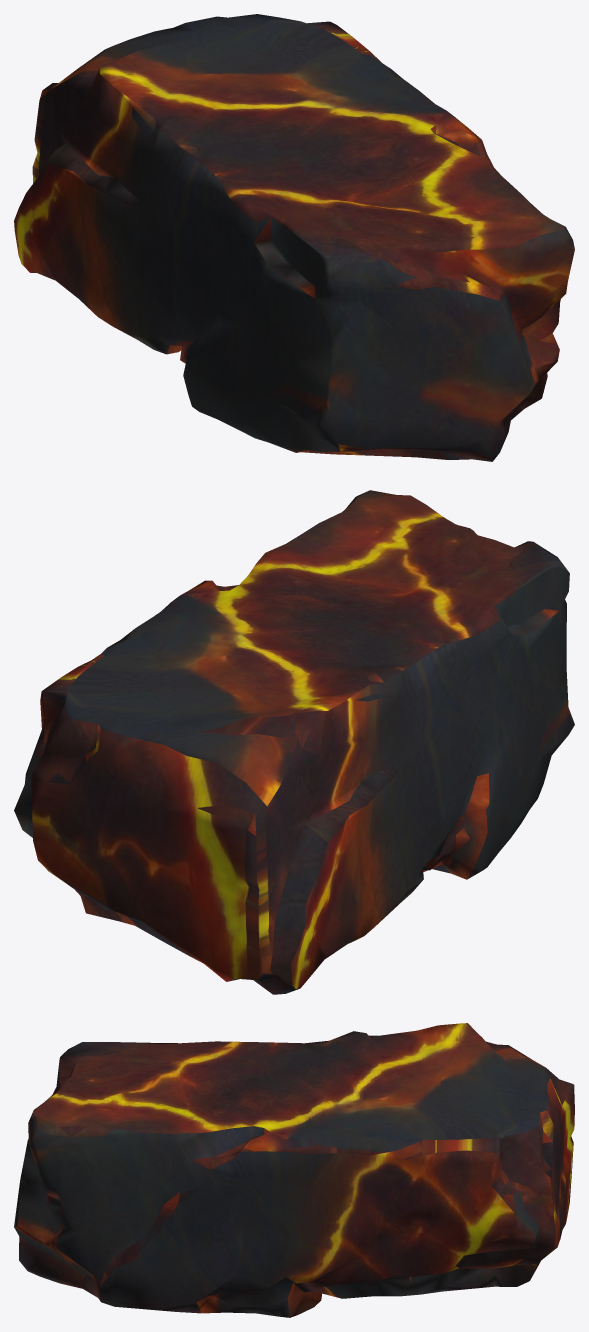
The model's file is Rock_5.fbx.
The picture shows the model from 3 angles, top to bottom: view 1: azimuth 30°, elevation 25°; view 2: azimuth 150°, elevation 25°; view 3: azimuth 270°, elevation 25°; orthographic projection. The views are drawn at different scales.
Visible parts, largest first — view 1: Rock_5; view 2: Rock_5; view 3: Rock_5.
Part boxes in pixels (x1,y1,x2,y2): Rock_5: [14, 14, 574, 461]; Rock_5: [14, 490, 574, 994]; Rock_5: [14, 1023, 574, 1317].
Size of what is drawn, in the model's own units: 195 by 379 by 157.
1 material, 1 textured.
